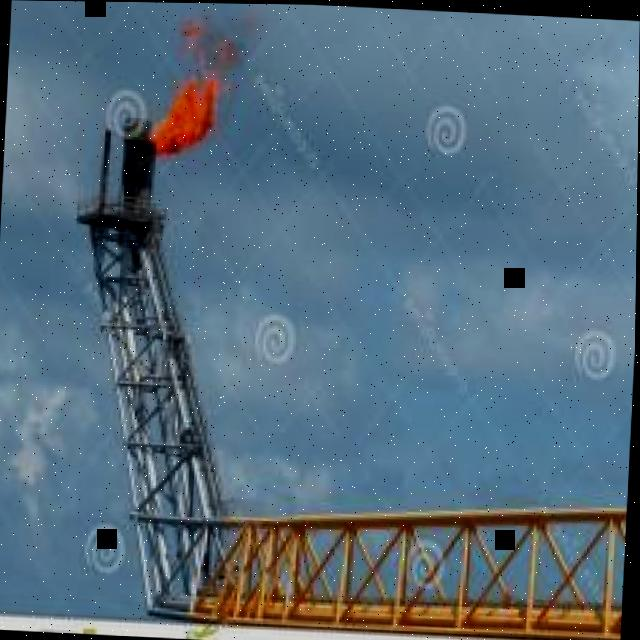fire: (148, 74, 231, 157), (181, 19, 205, 53), (215, 41, 232, 58), (213, 59, 223, 72), (201, 58, 204, 73)
smoke: (201, 30, 249, 65)
